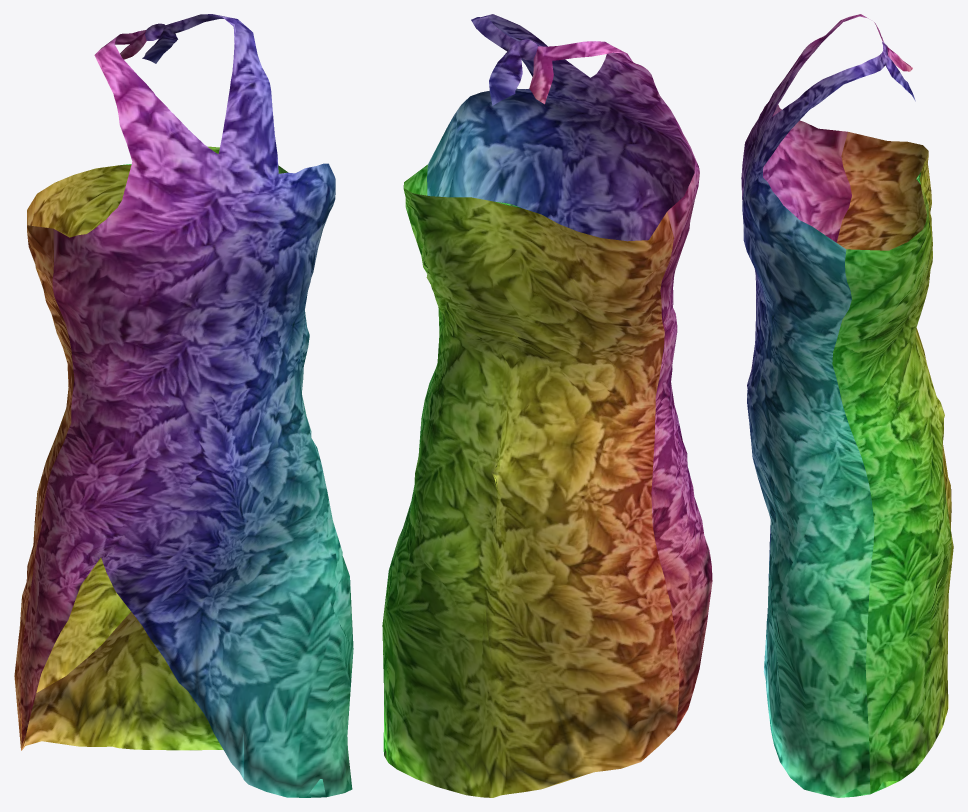
Rendered from elvs-sarong-cover-up.glb.
3 views of the same model, side by side, from view 1: azimuth 30°, elevation 25°; view 2: azimuth 150°, elevation 25°; view 3: azimuth 270°, elevation 25° (orthographic). The views are drawn at different scales.
Visible parts, largest first — view 1: Human.elvs_sarong_cover_up; view 2: Human.elvs_sarong_cover_up; view 3: Human.elvs_sarong_cover_up.
Part boxes in pixels (x1,y1,x2,y2): Human.elvs_sarong_cover_up: (14,14,353,797); Human.elvs_sarong_cover_up: (382,14,712,797); Human.elvs_sarong_cover_up: (741,14,953,797).
Bounding box in the file's own units: 0.4505 × 1.07 × 0.2987.
Materials: 1 (1 with a texture image).
